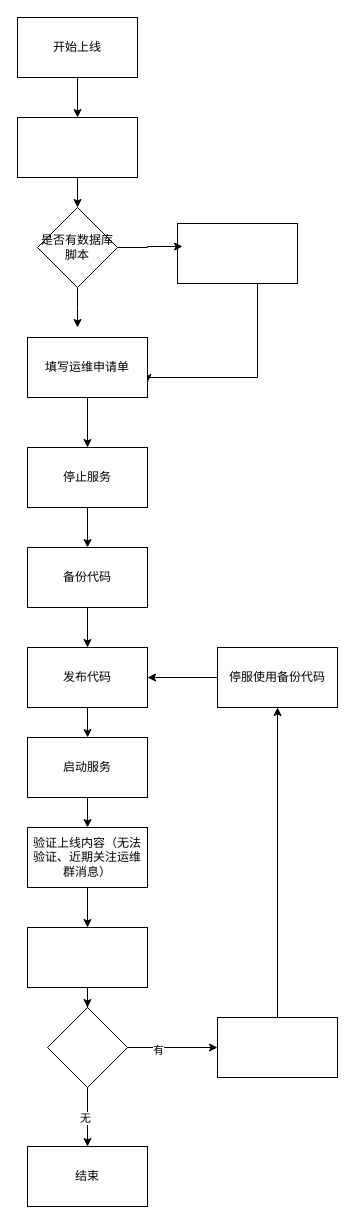
This 355x1224 diagram has some shape labels left out. Here are the shapes that lost their labels. From the top down, the centre of each, then its label:
At pixel 77 147: "准备代码分支".
At pixel 237 253: "准备数据库脚本".
At pixel 87 957: "验证核心功能可用".
At pixel 87 1047: "是否有问题".
At pixel 277 1047: "回滚".
